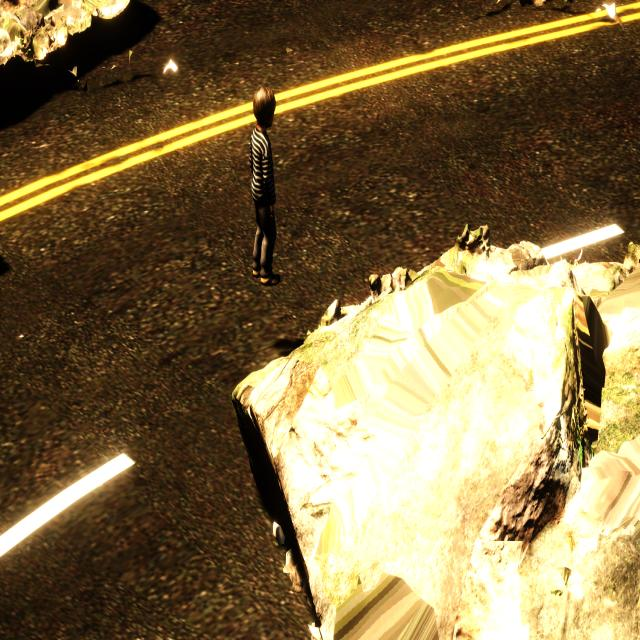Human: (242, 78, 282, 284)
